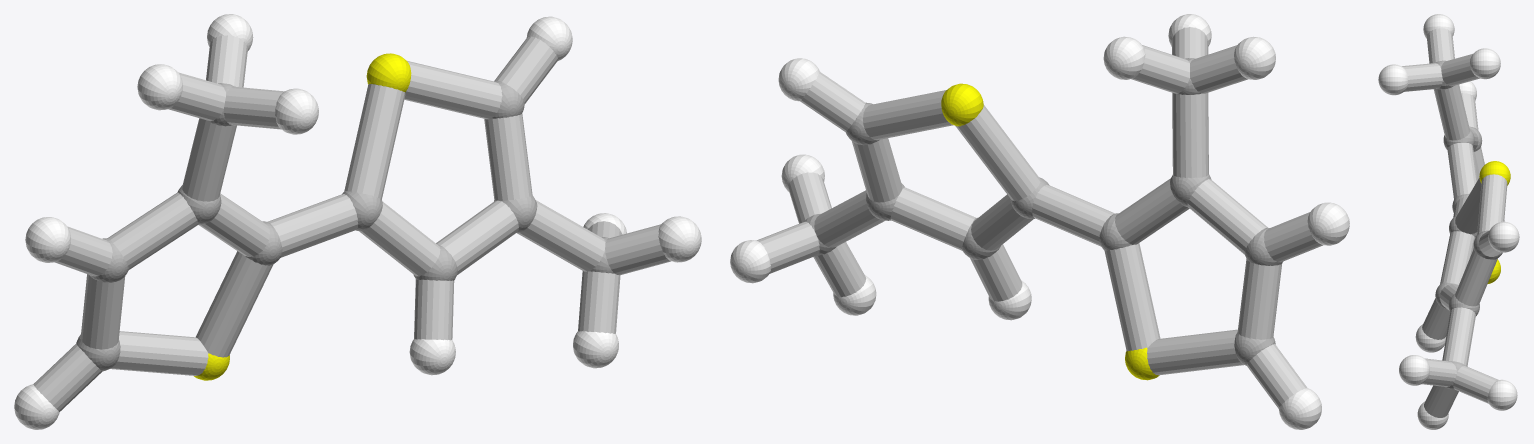
File: Methylthiophene_Phi_10_Theta_330_Methylthiophene.glb
The picture shows the model from 3 angles, left to right: view 1: azimuth 30°, elevation 25°; view 2: azimuth 150°, elevation 25°; view 3: azimuth 270°, elevation 25°; orthographic projection. The views are drawn at different scales.
Visible parts, largest first — view 1: grp7965, grp3621, grp1, grp7241; view 2: grp7965, grp3621, grp1, grp7241; view 3: grp7965, grp3621, grp1, grp7241.
Part boxes in pixels (x1,y1,x2,y2): grp7965: (33, 35, 670, 411); grp3621: (14, 14, 701, 429); grp1: (76, 81, 613, 371); grp7241: (194, 53, 411, 380); grp7965: (756, 27, 1322, 408); grp3621: (730, 14, 1349, 429); grp1: (804, 58, 1282, 365); grp7241: (941, 83, 1159, 380); grp7965: (1402, 28, 1507, 417); grp3621: (1378, 14, 1519, 429); grp1: (1435, 60, 1502, 389); grp7241: (1479, 161, 1510, 283).
Bounding box in the file's own units: 9.51 × 5.75 × 2.71.
